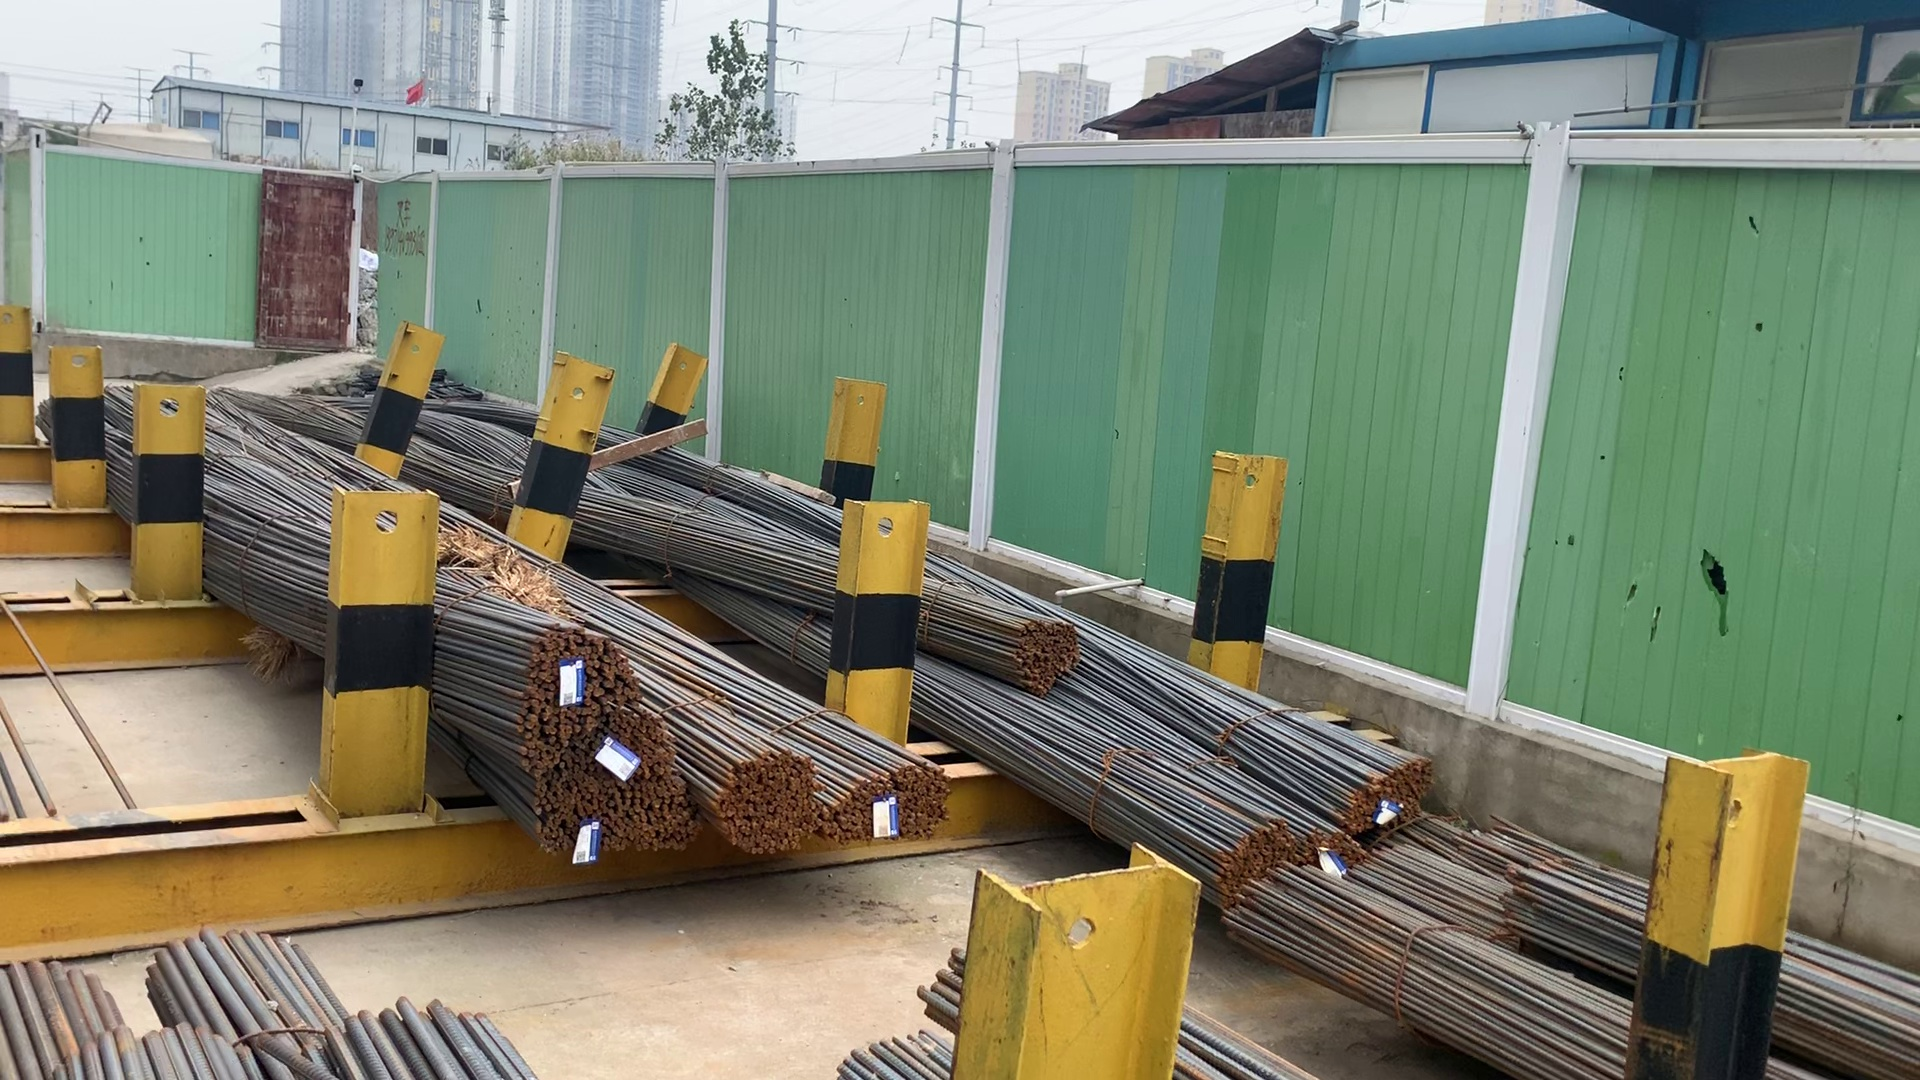rebar: (541, 733, 695, 856), (512, 615, 644, 750), (837, 757, 956, 848), (712, 756, 825, 845), (1204, 812, 1303, 887), (1345, 756, 1439, 825), (1011, 611, 1083, 684)
